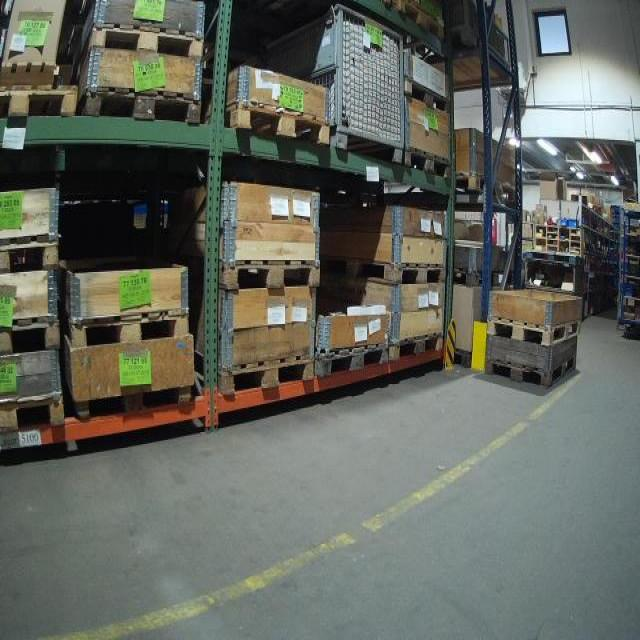pallet: (66, 306, 195, 350), (76, 382, 200, 423), (223, 104, 332, 147), (78, 88, 202, 125), (216, 353, 315, 398), (81, 25, 206, 60), (321, 256, 448, 286), (218, 256, 321, 292), (487, 353, 578, 390), (486, 315, 582, 349), (314, 340, 389, 380), (0, 391, 69, 433), (0, 83, 80, 119), (0, 315, 61, 360), (0, 230, 62, 274), (398, 0, 447, 38), (388, 331, 445, 362), (402, 79, 452, 113), (402, 147, 453, 179)
stillage: (241, 3, 410, 174)
